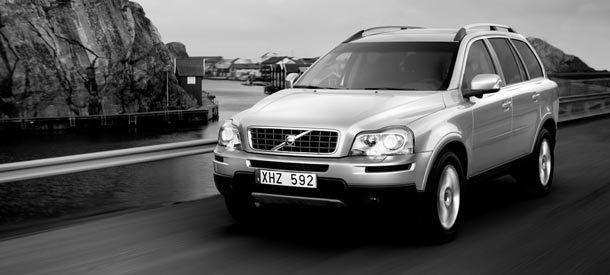car: (214, 27, 558, 235)
